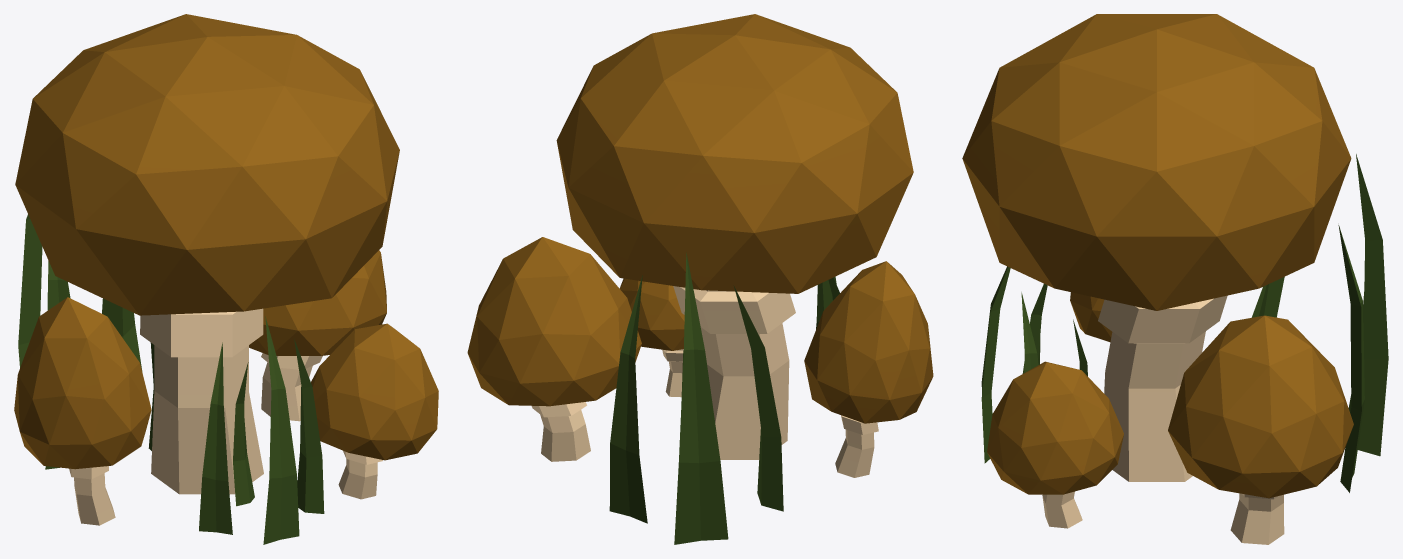
Rendered from Mushroom_05.fbx.
The picture shows the model from 3 angles, left to right: view 1: azimuth 30°, elevation 25°; view 2: azimuth 150°, elevation 25°; view 3: azimuth 270°, elevation 25°; orthographic projection. The views are drawn at different scales.
Parts seen in each view (by area): view 1: Mushroom_05; view 2: Mushroom_05; view 3: Mushroom_05.
Part boxes in pixels (x1,y1,x2,y2): Mushroom_05: (14,14,438,544); Mushroom_05: (467,14,933,544); Mushroom_05: (962,14,1388,544).
Size of the model in its own units: 41.33 by 43.13 by 37.03.
